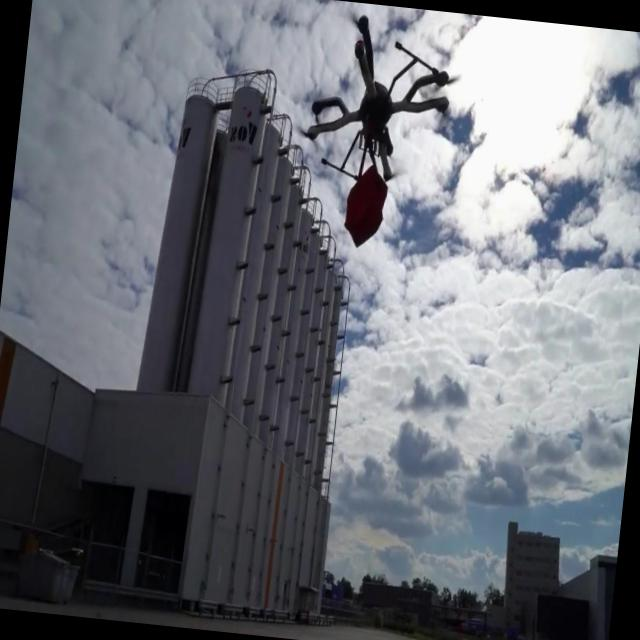drone: (293, 10, 459, 257)
